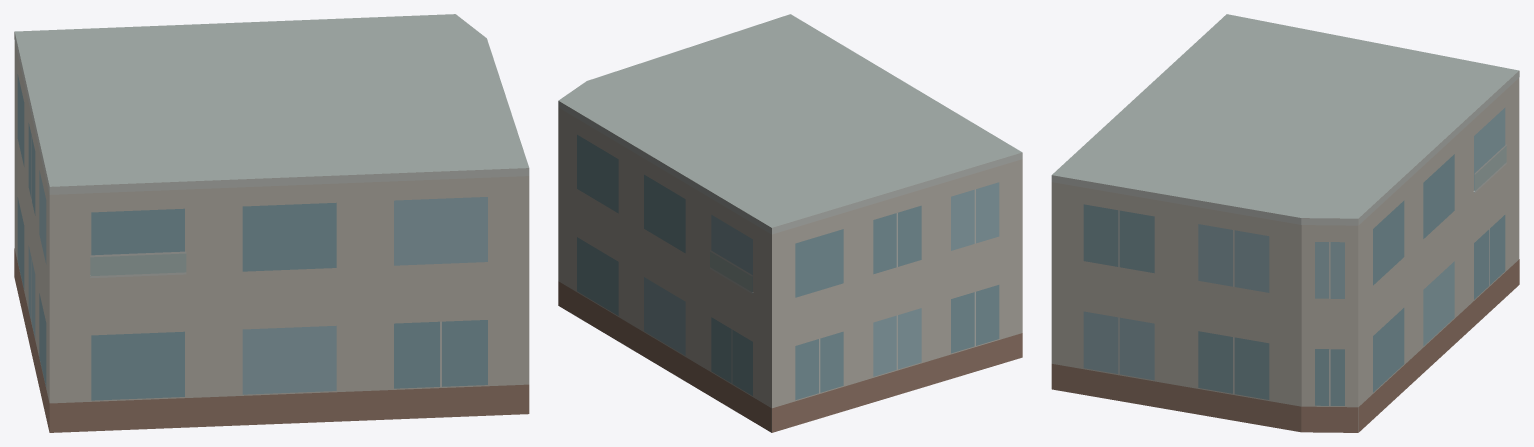
File: survey-upis-32748911.glb
3 views of the same model, side by side, from view 1: azimuth 30°, elevation 25°; view 2: azimuth 150°, elevation 25°; view 3: azimuth 270°, elevation 25° (orthographic). The views are drawn at different scales.
Parts seen in each view (by area): view 1: survey-upis-32748911.tmp; view 2: survey-upis-32748911.tmp; view 3: survey-upis-32748911.tmp.
Boxes of the visible parts, bbox=[...] form: survey-upis-32748911.tmp: bbox=[14, 14, 529, 432]; survey-upis-32748911.tmp: bbox=[558, 14, 1022, 432]; survey-upis-32748911.tmp: bbox=[1051, 14, 1519, 432].
Size of the model in its own units: 15.38 by 7.5 by 14.85.
